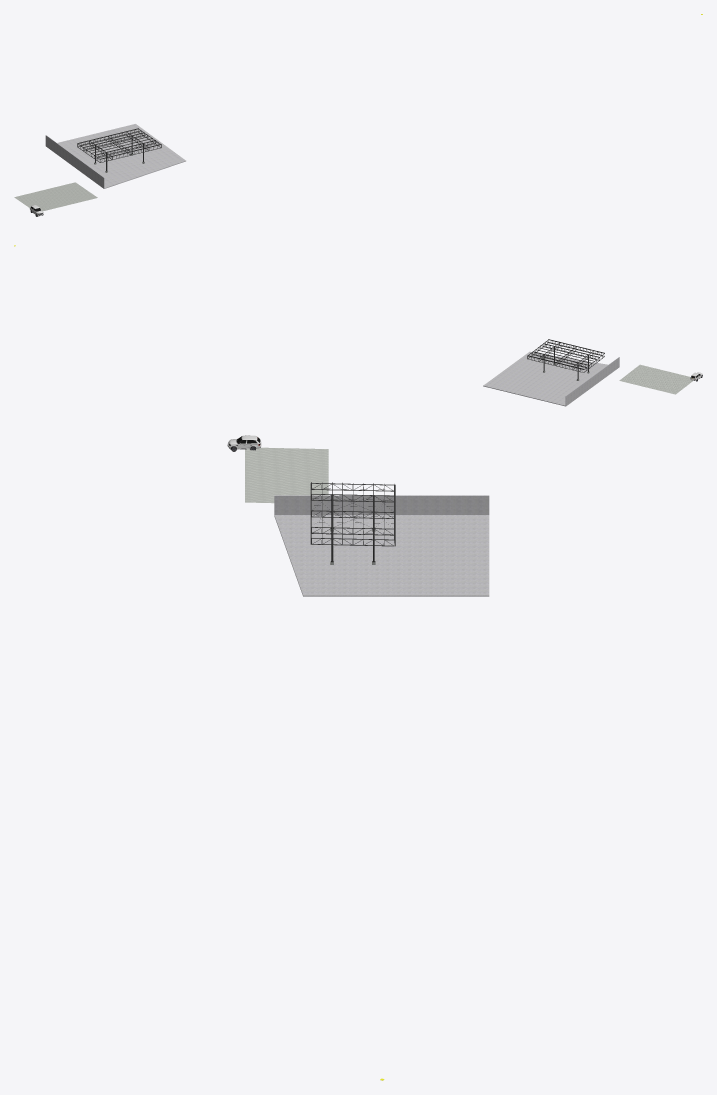
The model's file is Estructural.glb.
3 views of the same model, one above another, from view 1: azimuth 30°, elevation 25°; view 2: azimuth 150°, elevation 25°; view 3: azimuth 270°, elevation 25° (orthographic). The views are drawn at different scales.
Visible parts, largest first — view 1: C-Component#14; view 2: C-Component#14; view 3: C-Component#14.
Boxes of the visible parts, <box> form: C-Component#14: <box>45,124,185,188</box>; C-Component#14: <box>483,351,619,406</box>; C-Component#14: <box>274,495,489,596</box>.
Size of the model in its own units: 213 by 6.29 by 37.
Materials: 17 (13 with a texture image).
